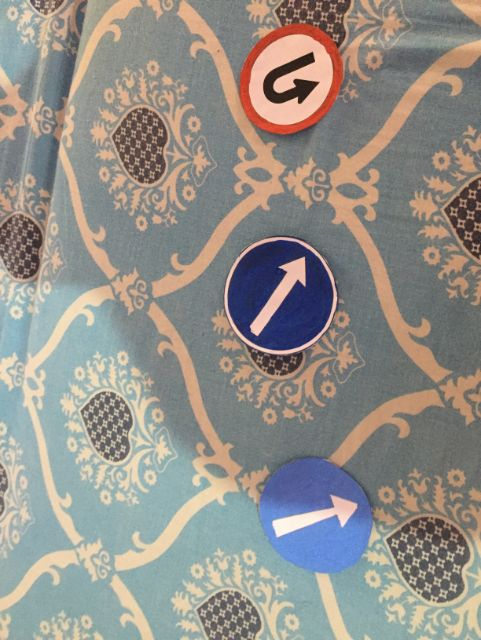go-stright: (223, 232, 345, 358)
keep-left: (257, 453, 379, 575)
u-turn: (234, 22, 343, 136)
